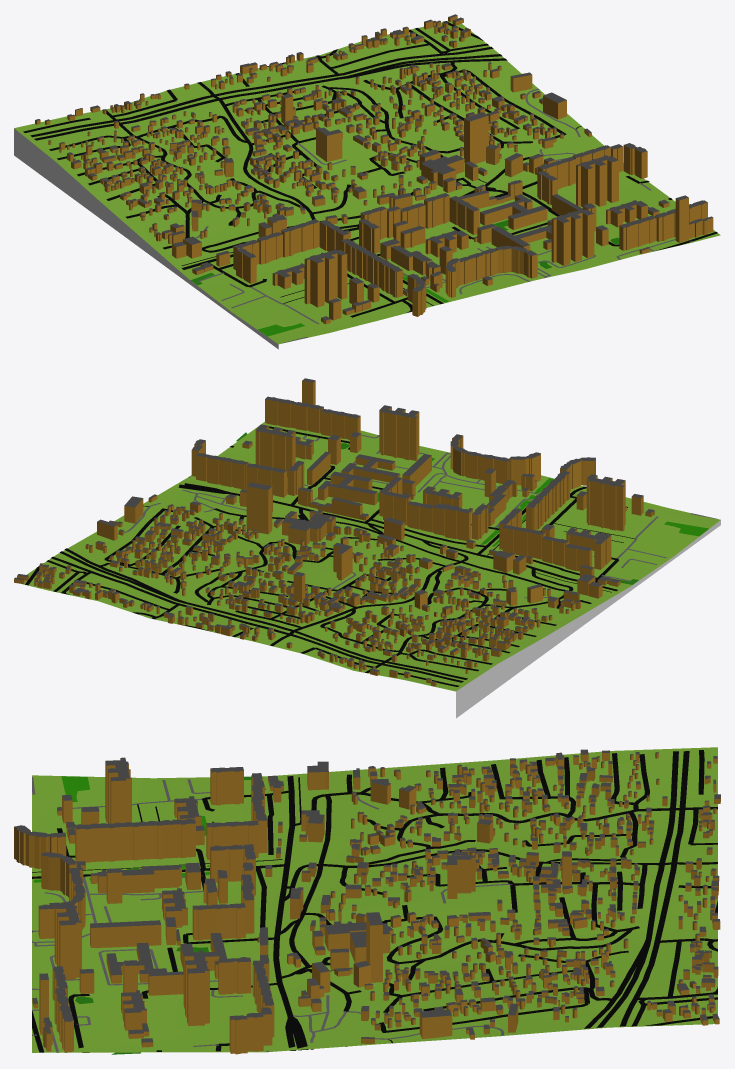
The model's file is tile_00_04.glb.
The picture shows the model from 3 angles, top to bottom: view 1: azimuth 30°, elevation 25°; view 2: azimuth 150°, elevation 25°; view 3: azimuth 270°, elevation 25°; orthographic projection. The views are drawn at different scales.
Parts seen in each view (by area): view 1: Ub_small.osm_buildings_00_04, Terrain_00_04, Ub_small.osm_roads_residential_00_04, Ub_small.osm_roads_secondary_00_04, Ub_small.osm_roads_service_00_04; view 2: Ub_small.osm_buildings_00_04, Terrain_00_04, Ub_small.osm_roads_residential_00_04, Ub_small.osm_roads_secondary_00_04, Ub_small.osm_roads_service_00_04, Ub_small.osm_vegetation_00_04; view 3: Terrain_00_04, Ub_small.osm_buildings_00_04, Ub_small.osm_roads_residential_00_04, Ub_small.osm_roads_secondary_00_04, Ub_small.osm_roads_service_00_04, Ub_small.osm_vegetation_00_04.
Boxes of the visible parts, bbox=[...] form: Ub_small.osm_buildings_00_04: bbox=[35, 14, 713, 324]; Terrain_00_04: bbox=[14, 21, 720, 349]; Ub_small.osm_roads_residential_00_04: bbox=[23, 21, 717, 317]; Ub_small.osm_roads_secondary_00_04: bbox=[30, 46, 537, 269]; Ub_small.osm_roads_service_00_04: bbox=[195, 88, 692, 343]; Ub_small.osm_buildings_00_04: bbox=[14, 378, 654, 686]; Terrain_00_04: bbox=[21, 422, 720, 718]; Ub_small.osm_roads_residential_00_04: bbox=[25, 426, 627, 686]; Ub_small.osm_roads_secondary_00_04: bbox=[51, 484, 617, 682]; Ub_small.osm_roads_service_00_04: bbox=[117, 434, 717, 598]; Ub_small.osm_vegetation_00_04: bbox=[480, 478, 708, 546]; Terrain_00_04: bbox=[32, 747, 717, 1052]; Ub_small.osm_buildings_00_04: bbox=[14, 749, 720, 1054]; Ub_small.osm_roads_residential_00_04: bbox=[32, 750, 717, 1052]; Ub_small.osm_roads_secondary_00_04: bbox=[273, 751, 689, 1050]; Ub_small.osm_roads_service_00_04: bbox=[32, 777, 512, 1052]; Ub_small.osm_vegetation_00_04: bbox=[33, 776, 209, 882].
Bounding box in the file's own units: 903 × 107 × 959.
